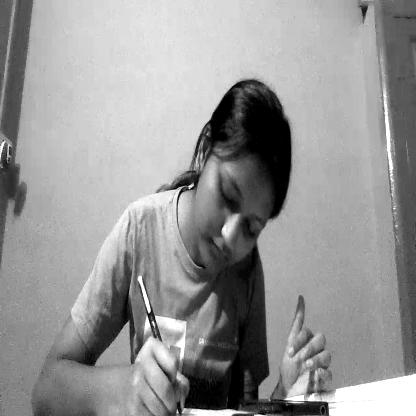Distracted: (186, 129, 282, 280)
